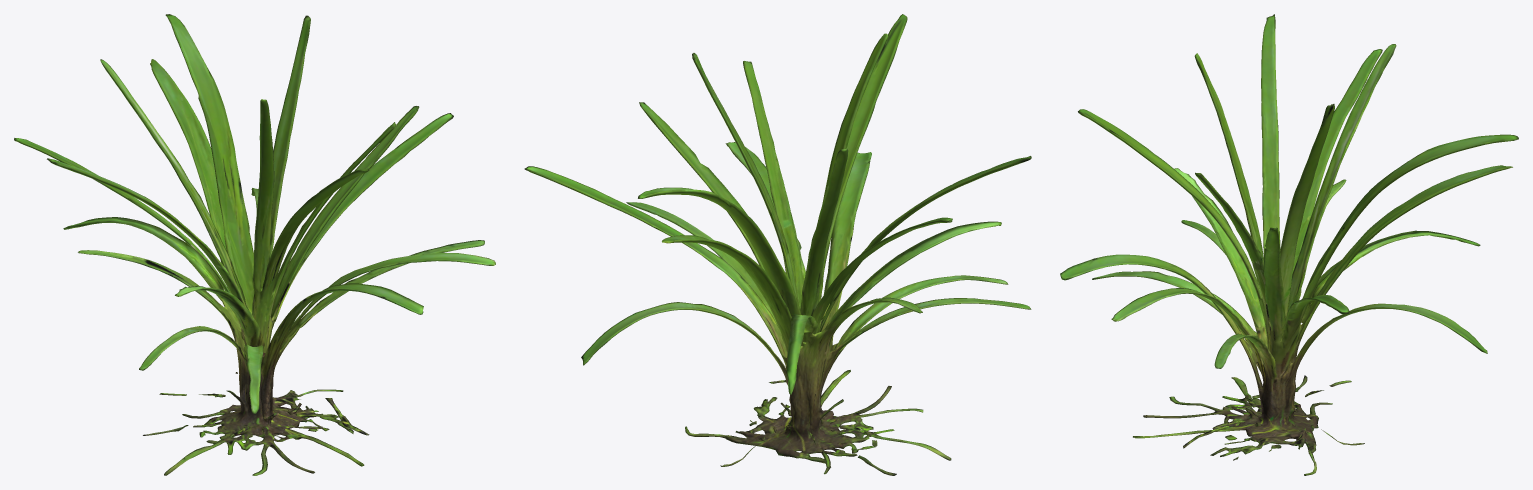
Rendered from _A_highly_detailed_3D_0211105419_texture.fbx.
3 views of the same model, side by side, from view 1: azimuth 30°, elevation 25°; view 2: azimuth 150°, elevation 25°; view 3: azimuth 270°, elevation 25° (orthographic). The views are drawn at different scales.
Visible parts, largest first — view 1: Mesh1_Mesh1.028; view 2: Mesh1_Mesh1.028; view 3: Mesh1_Mesh1.028.
Boxes of the visible parts, <box> form: Mesh1_Mesh1.028: <box>14,14,495,475</box>; Mesh1_Mesh1.028: <box>524,14,1031,475</box>; Mesh1_Mesh1.028: <box>1060,14,1518,475</box>.
Bounding box in the file's own units: 200 × 162 × 184.
1 material, 1 textured.
